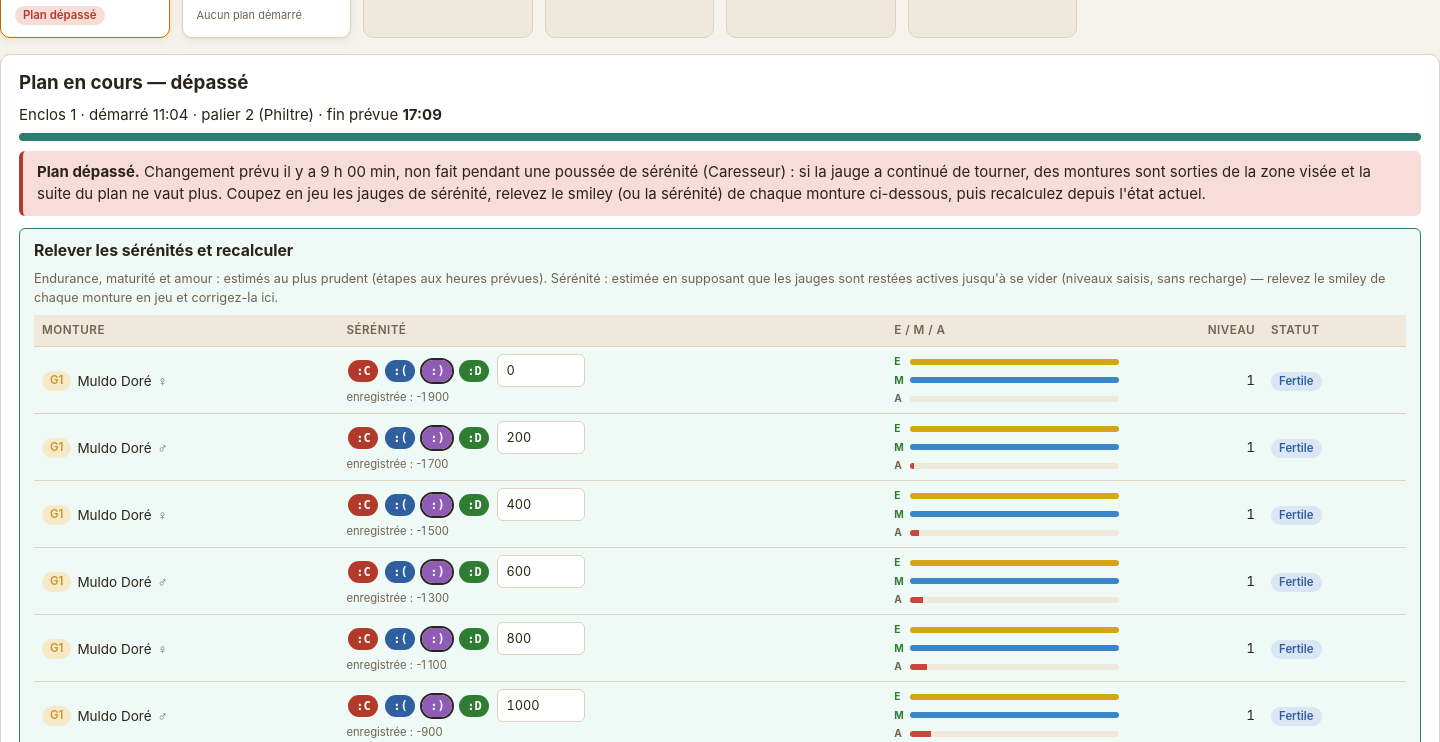
Test case: Enclos — plan démarré › changement manqué de 9 h pendant une poussée de sérénité : « plan dépassé », plus de « Fait à l’heure », relevé des sérénités (ux F6)
(page scrolled)
Step 1. Click the button named "Smiley vert" → [474, 371], box [457, 358, 491, 384]
(page scrolled)
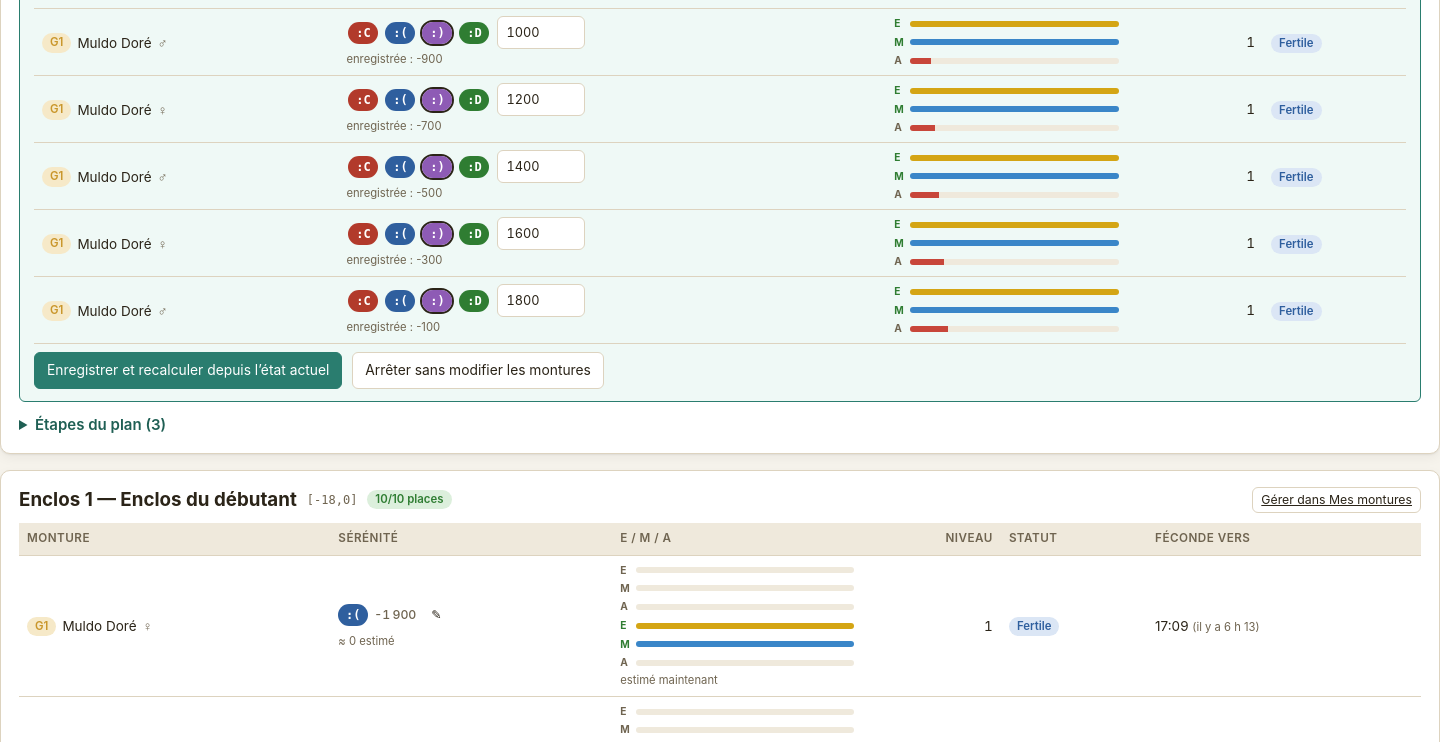
Step 2. Click the button "Enregistrer et recalculer depuis l’état actuel" → [188, 371], box [34, 352, 342, 389]
(page scrolled)
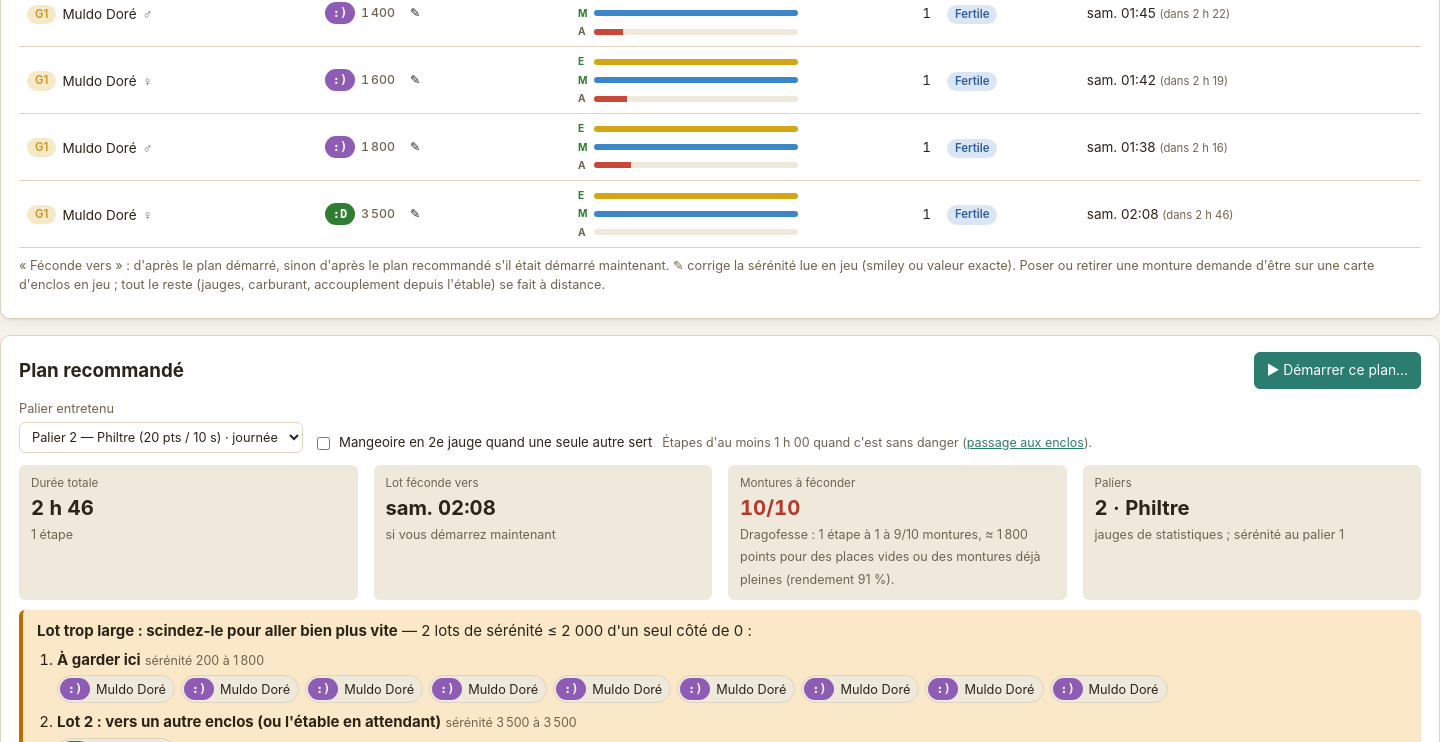
Check: the heading "Plan recommandé" is shown, box [19, 359, 184, 382]
